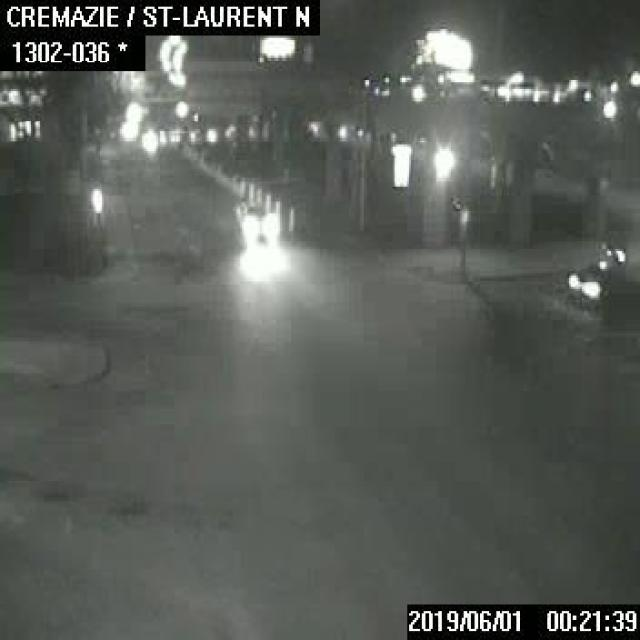vehicle: (564, 258, 638, 309), (231, 198, 274, 240), (607, 309, 609, 311)
